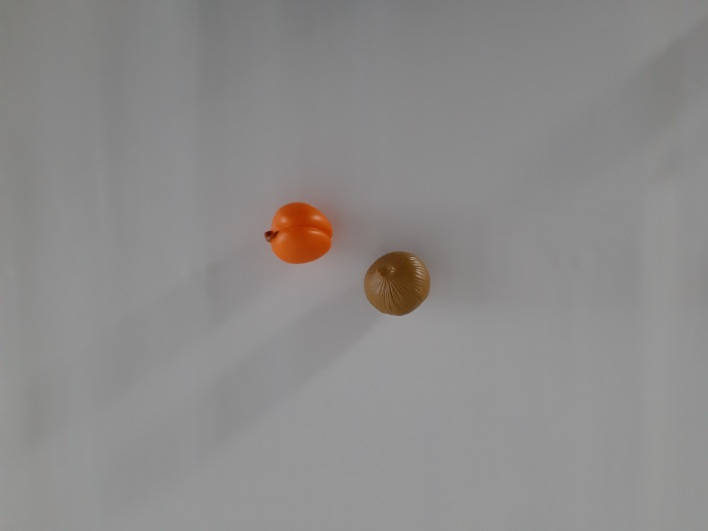apricot: (248, 190, 349, 278)
onion: (358, 243, 437, 327)
